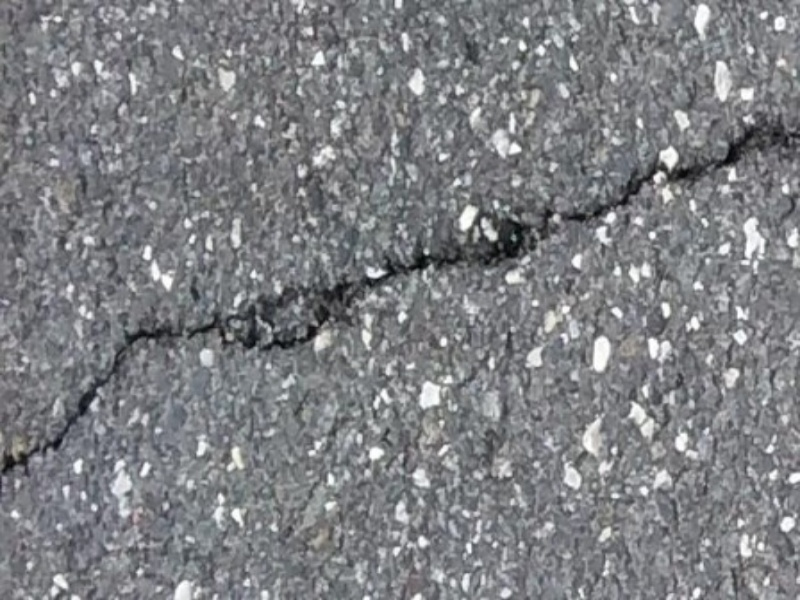crack: (9, 122, 800, 493)
